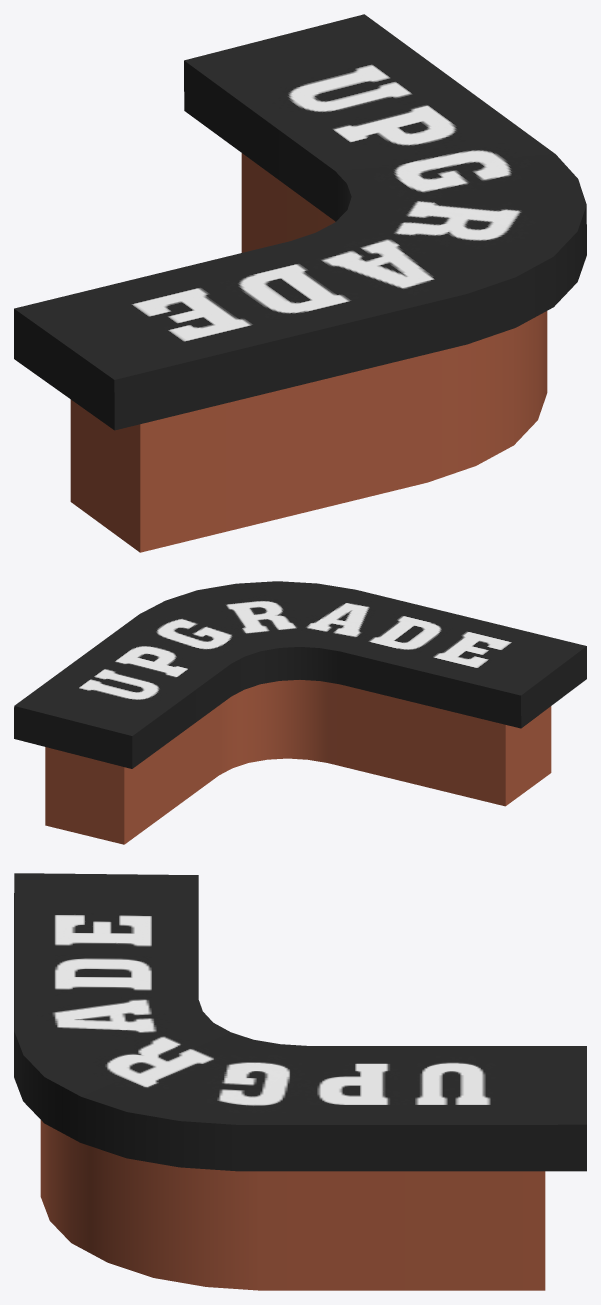
File: Ban_upgrade.fbx
3 views of the same model, one above another, from view 1: azimuth 30°, elevation 25°; view 2: azimuth 150°, elevation 25°; view 3: azimuth 270°, elevation 25° (orthographic). The views are drawn at different scales.
Visible parts, largest first — view 1: ban_upgrade; view 2: ban_upgrade; view 3: ban_upgrade.
Boxes of the visible parts, box(x1,y1,x2,y2) form: ban_upgrade: box(14, 14, 586, 552); ban_upgrade: box(14, 581, 586, 844); ban_upgrade: box(14, 873, 586, 1290).
Size of the model in its own units: 417 by 137 by 401.
